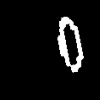chain: (58, 17, 83, 71)
